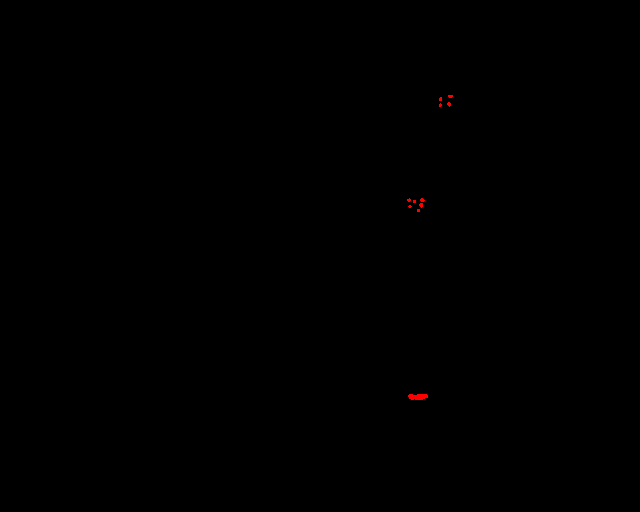Target: (408, 394, 428, 400), (447, 102, 451, 107), (420, 198, 425, 202), (419, 203, 423, 208), (407, 198, 411, 202), (448, 95, 453, 98), (439, 97, 442, 101), (439, 103, 442, 107), (408, 205, 412, 208), (413, 200, 416, 203), (417, 209, 420, 212)
